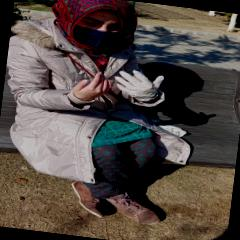gloved: (112, 69, 163, 100)
not-gloved: (72, 68, 114, 104)
